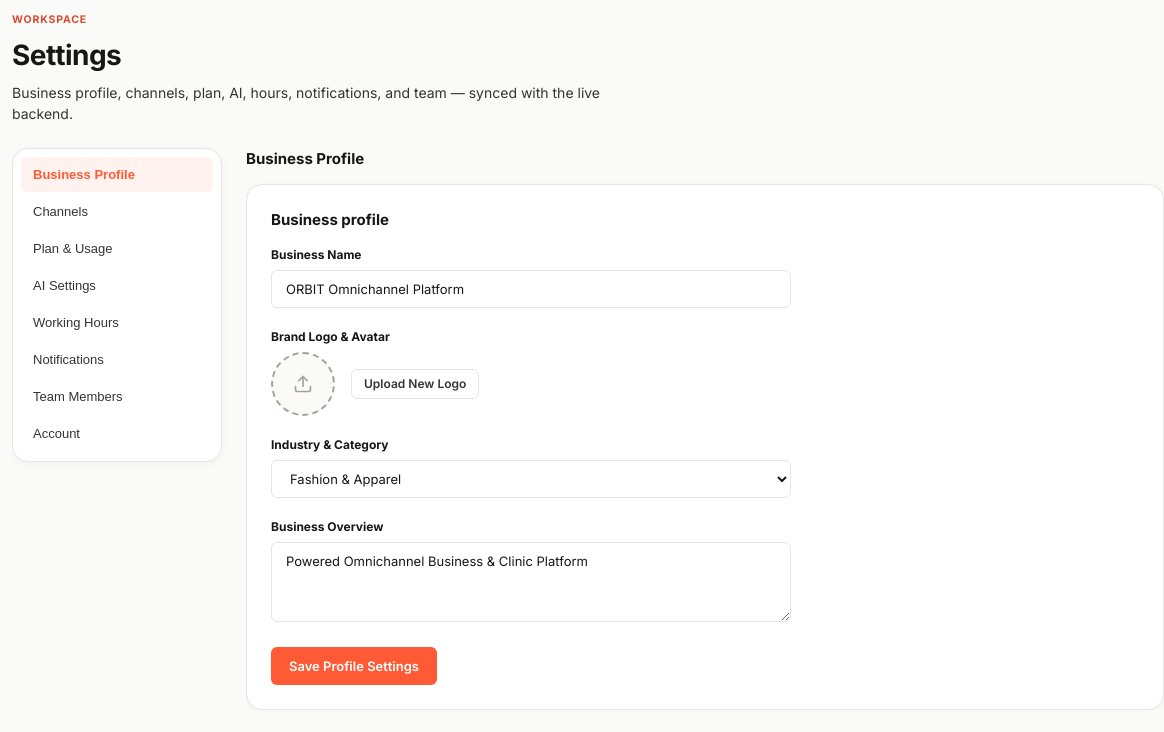
Test case: Settings panels & workflows › displays fallback copy when plan data is unavailable
This screenshot has width=1164, height=732.
What coordinates should you click on to do the following:
click the button "Plan & Usage"
I would click on:
 (117, 248)
Its box is [21,231,213,266].
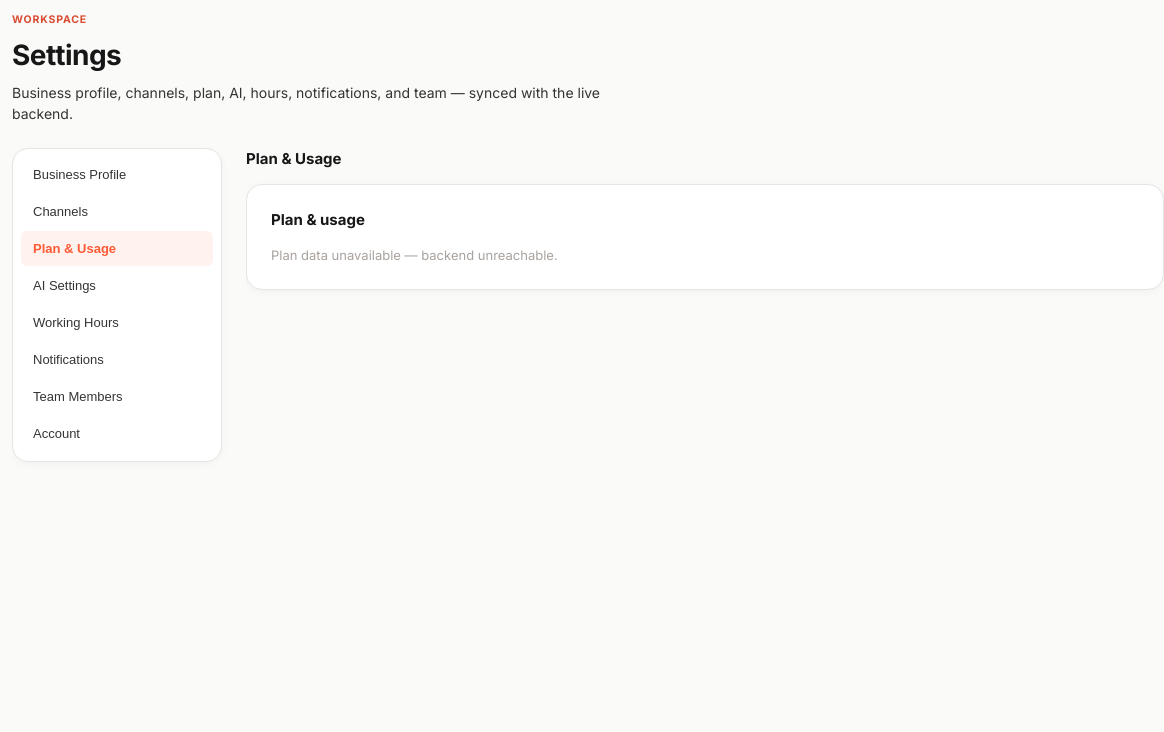
Check: the text "Plan data unavailable — backend unreachable." is shown, box [271,247,558,263]
